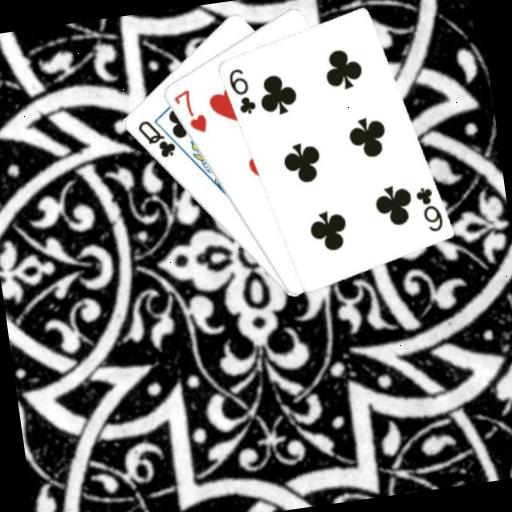6C: (411, 182, 446, 236), (224, 64, 258, 118)
7H: (168, 84, 210, 139)
QC: (133, 114, 179, 163)
